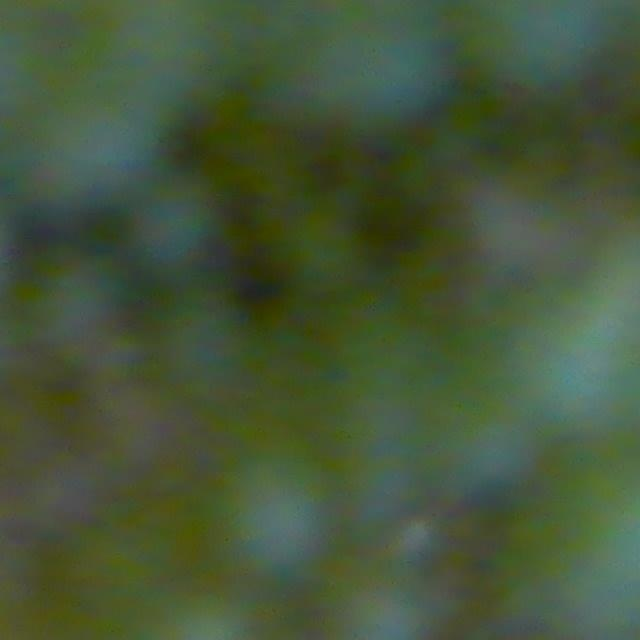SeaGrape: (510, 451, 640, 627), (214, 445, 330, 574), (345, 579, 441, 640)
